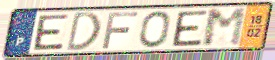D: (64, 10, 103, 53)
E: (171, 9, 210, 48), (32, 13, 71, 52)
F: (100, 10, 140, 50)
M: (201, 7, 248, 49)
O: (138, 10, 172, 49)
